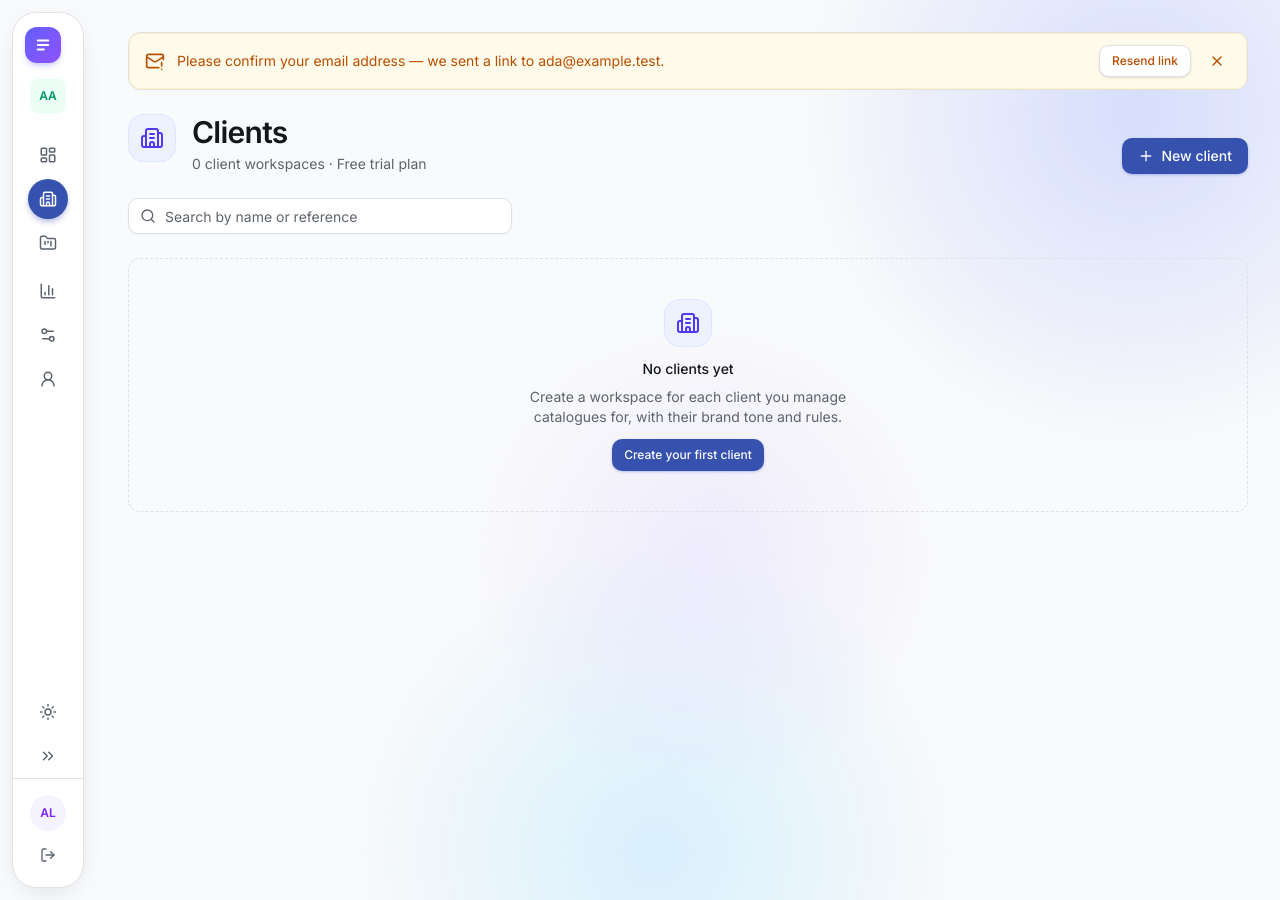
Test case: email confirmation › reminds signed-in users who haven’t confirmed yet, and can resend the link
Expected: the text "Please confirm your email address — we sent a link to ada@example.test" is shown, [177,52,664,69]
What coordinates should you click on to do the following:
click the button "Resend link"
I would click on:
 (1145, 61)
Its box is [1099,45,1191,77].
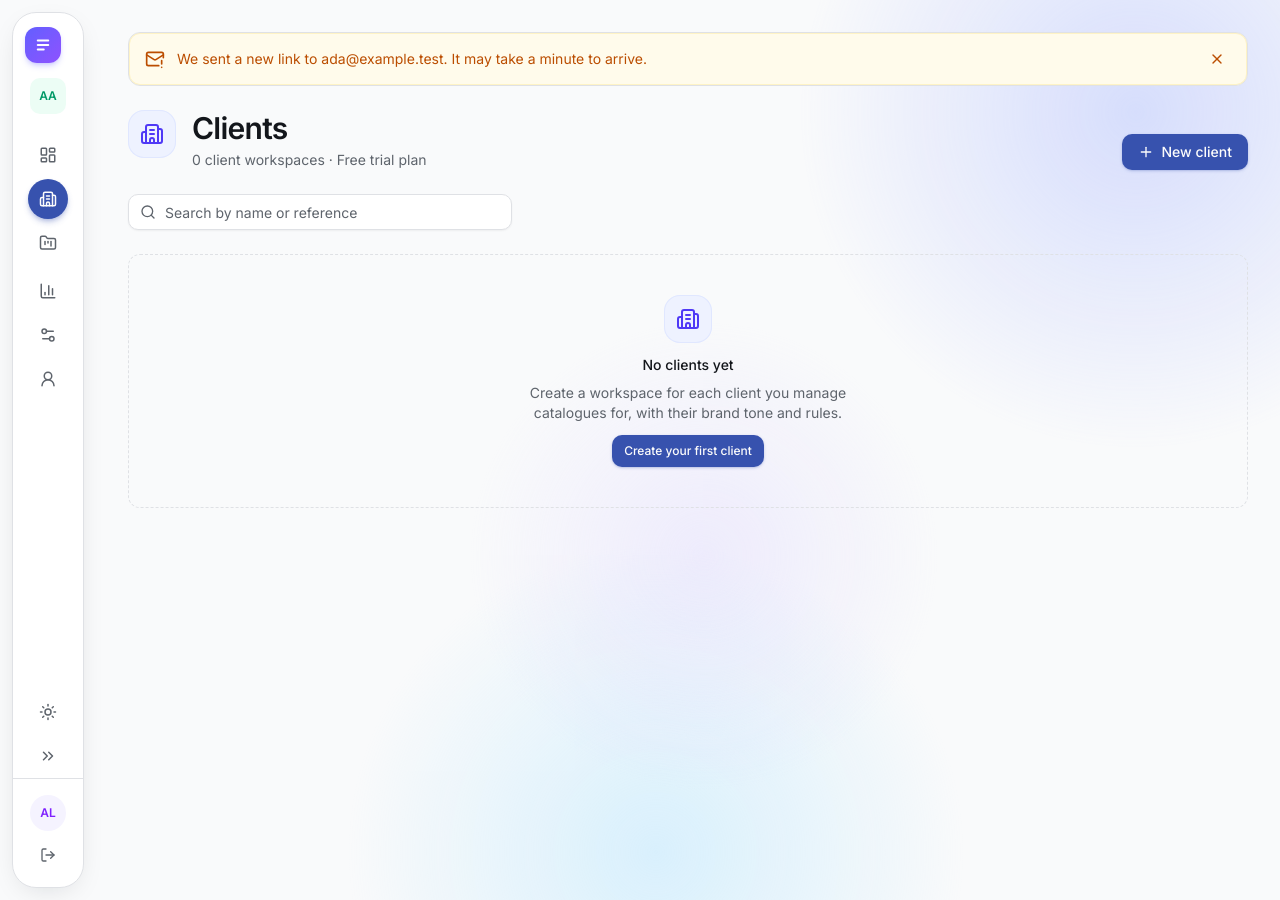
Now the text "We sent a new link to ada@example.test" is shown, box [177,50,647,67]
